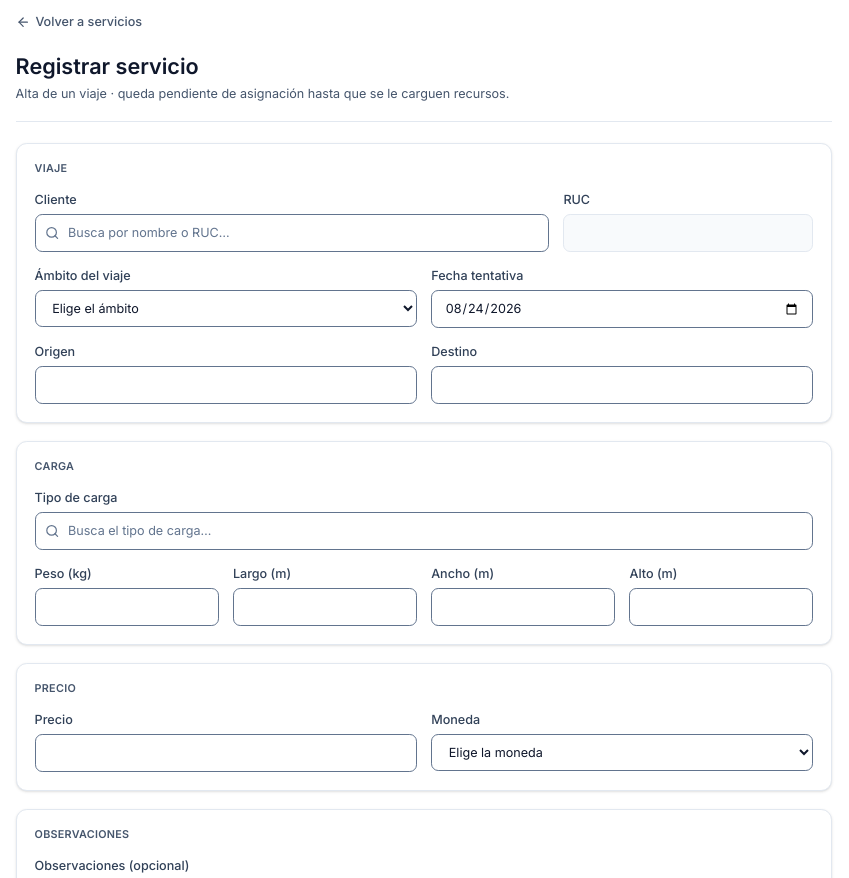
Test: ServiceCreatePage › avisa cuando la fecha tentativa ya pasó
In the date field labelled "Fecha tentativa": point(622, 309) [431,290,813,328], type "2026-08-20"
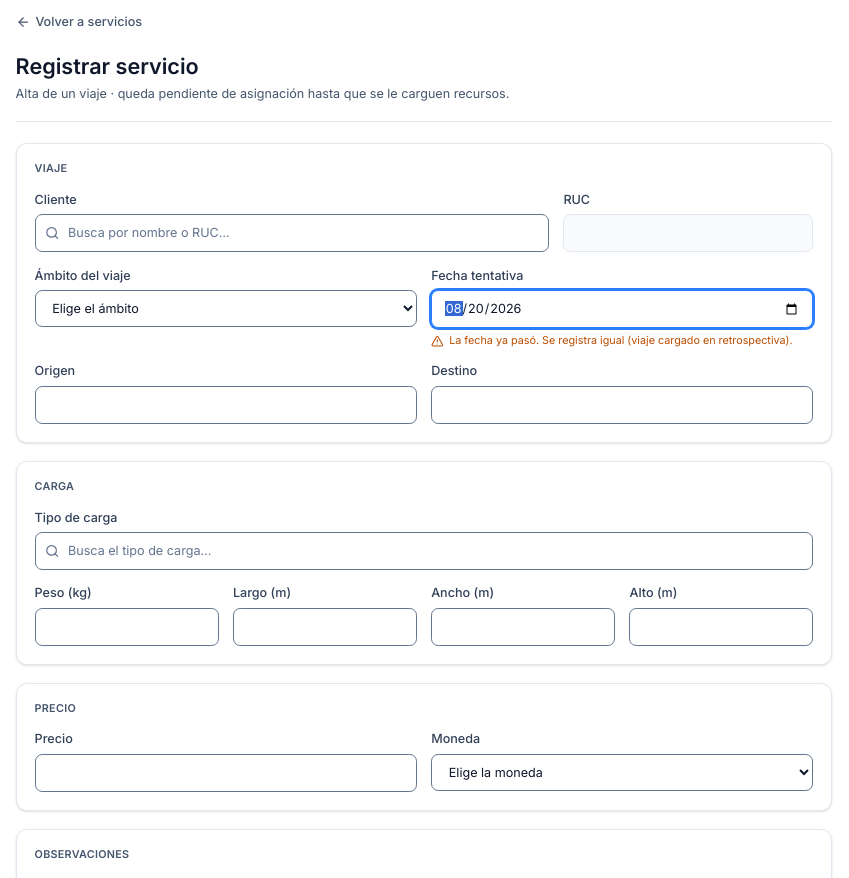
expect the text "La fecha ya pasó. Se registra igual (viaje cargado en retrospectiva)." is shown: met, box [431,334,813,348]
